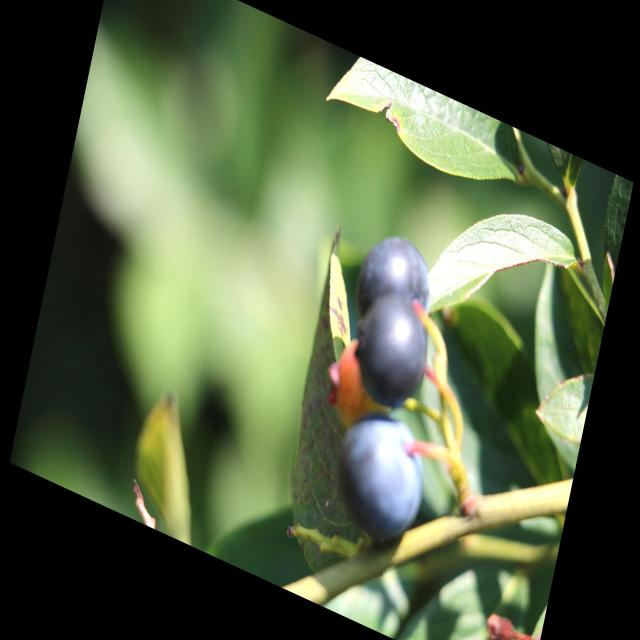blueberry: (330, 403, 431, 544), (351, 284, 436, 418), (354, 222, 438, 340)
